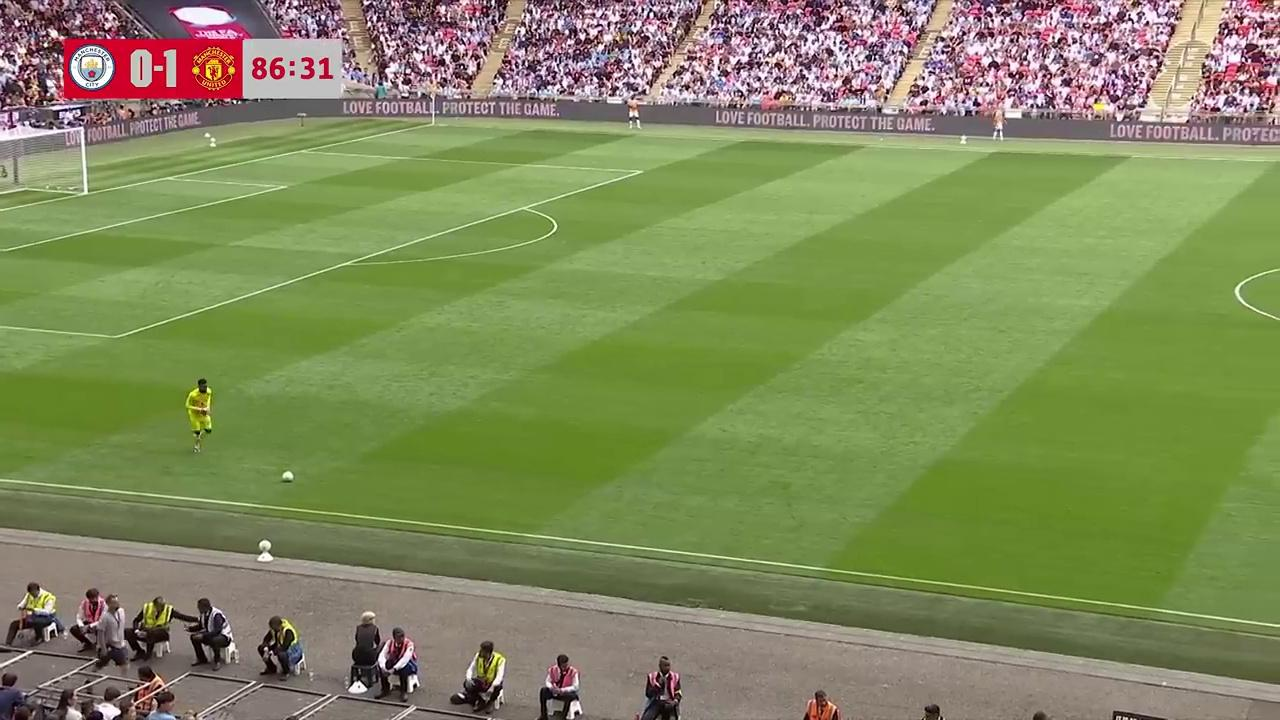ball: (280, 467, 295, 484)
player: (185, 377, 213, 453)
